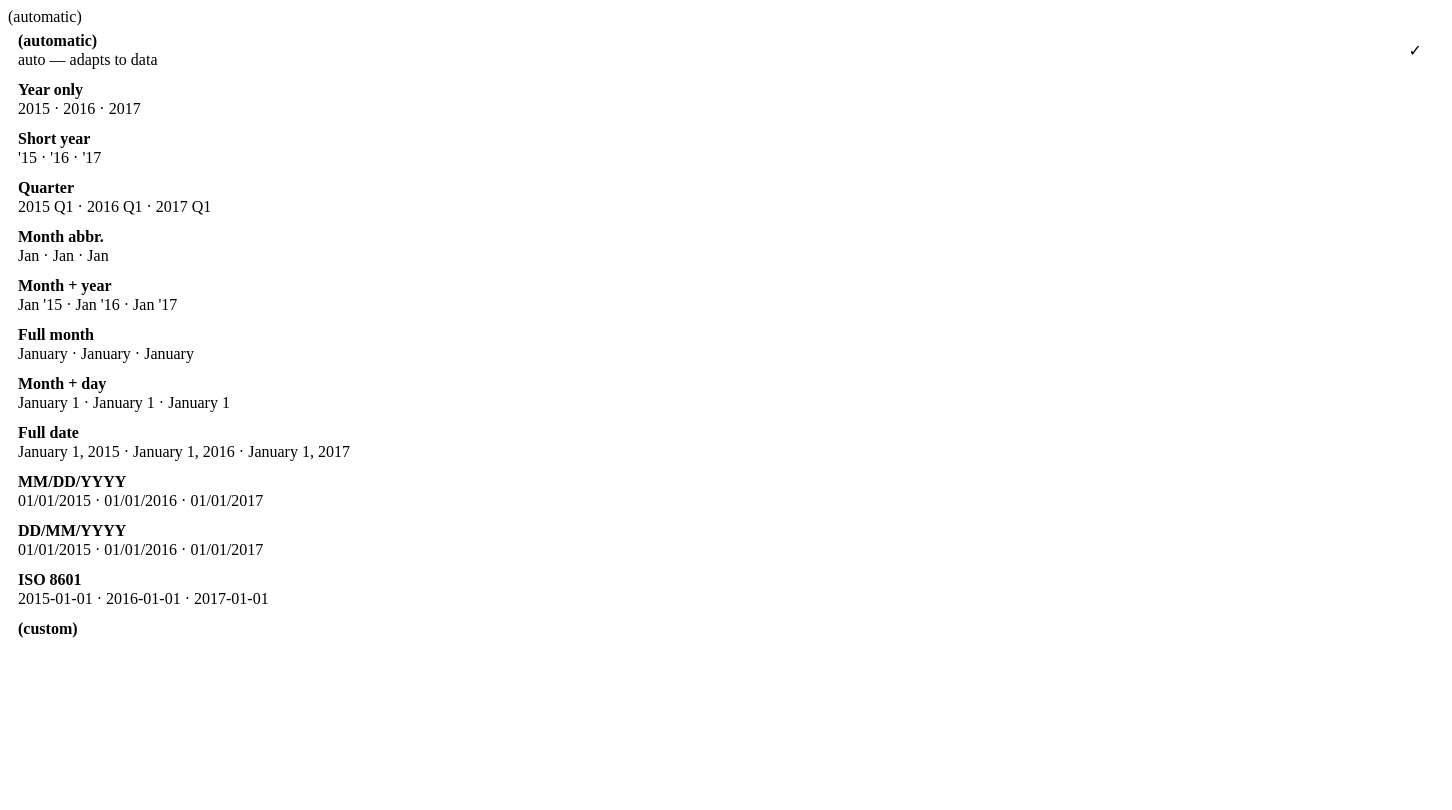
Scenario: FormControlDateFormat custom format › shows custom input section when (custom) preset is selected
Click the element with class "form-control-date-format__popover__list__item" showing "(custom)". click: (48, 628)
box: [18,620,78,637]
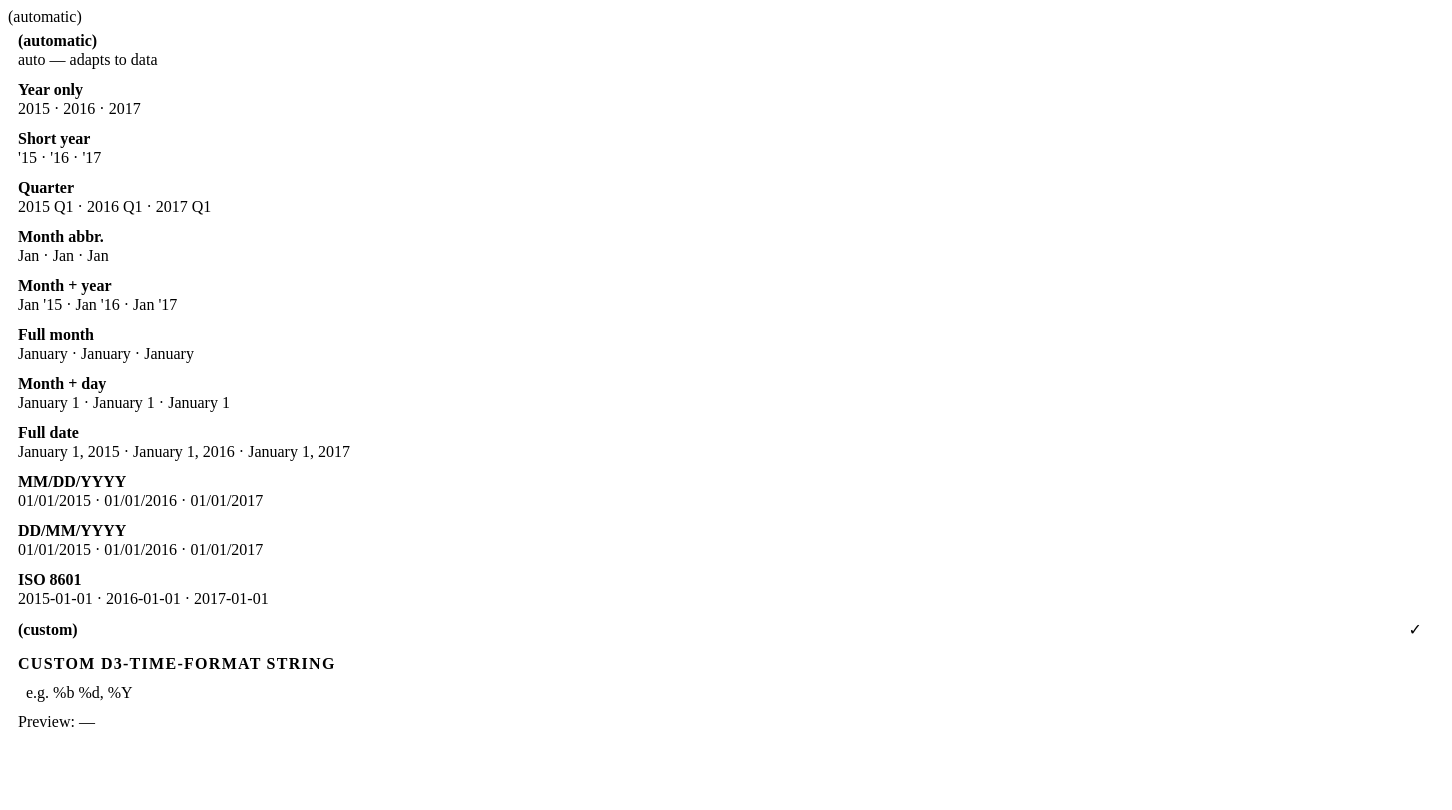
Now the element with class "form-control-date-format__popover__custom" is shown, box [8,645,1432,741]
